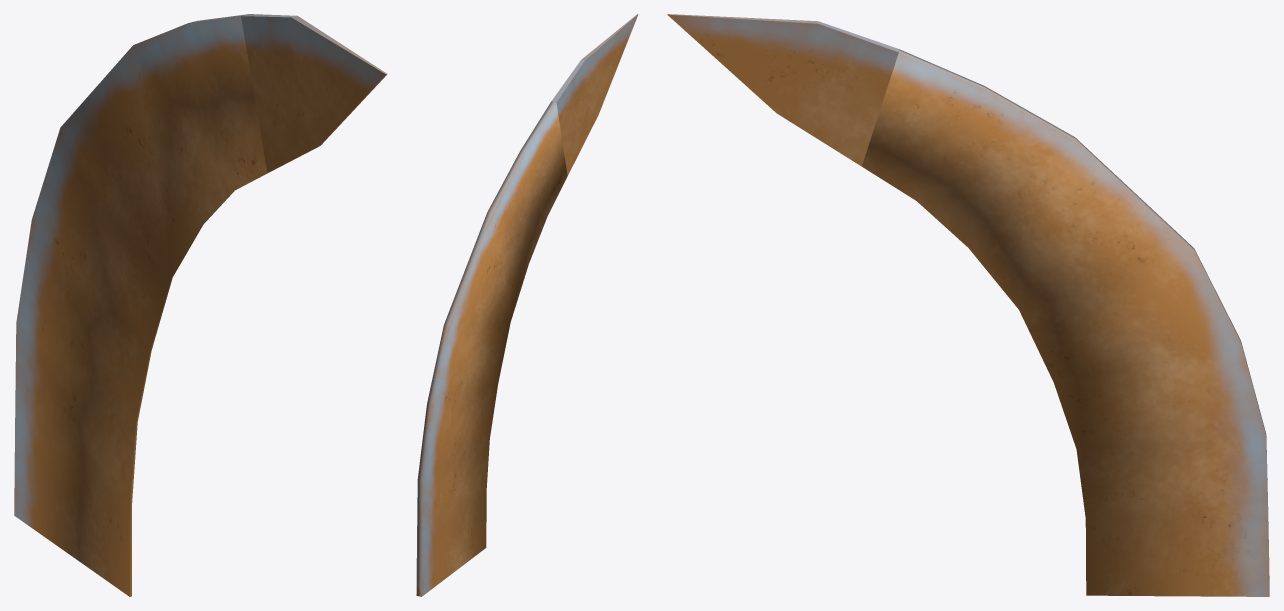
File: SlashV_Mid.FBX
3 renders of one model, left to right at view 1: azimuth 30°, elevation 25°; view 2: azimuth 150°, elevation 25°; view 3: azimuth 270°, elevation 25°, orthographic. The views are drawn at different scales.
Parts seen in each view (by area): view 1: Vertical; view 2: Vertical; view 3: Vertical.
Part boxes in pixels (x1,y1,x2,y2): Vertical: [14, 14, 387, 596]; Vertical: [416, 14, 638, 596]; Vertical: [667, 14, 1269, 596].
Size of the model in its own units: 3.74 by 287 by 270.
Materials: 1 (1 with a texture image).
